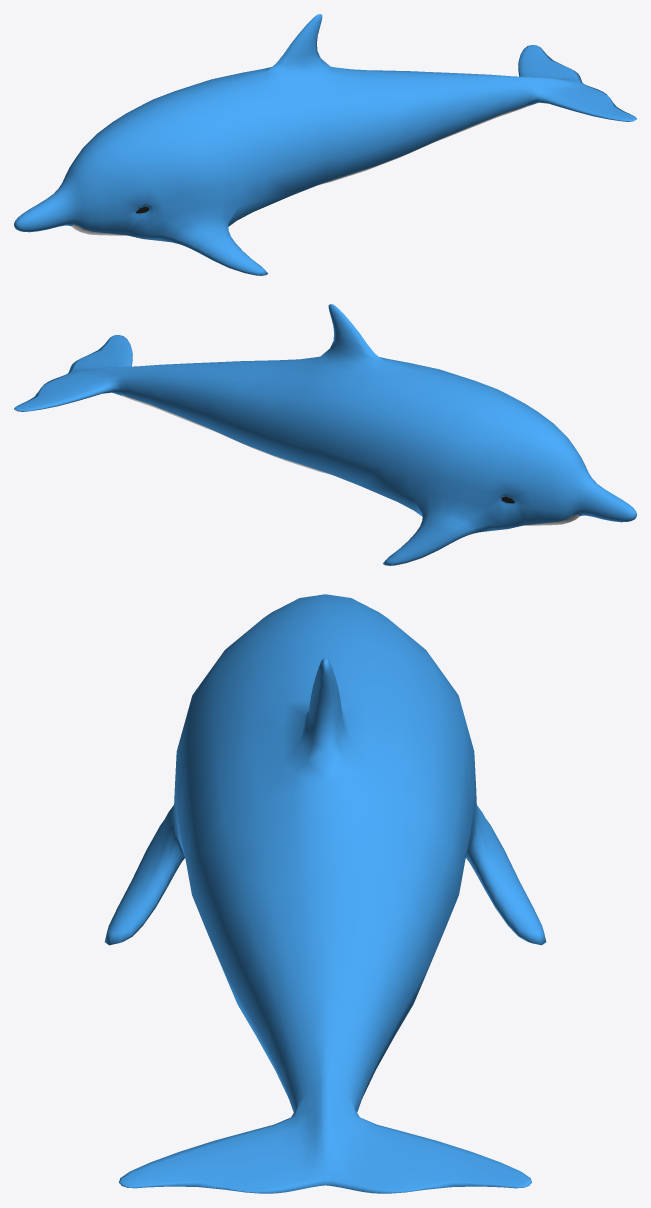
The model's file is Dolphin_002.glb.
The picture shows the model from 3 angles, top to bottom: view 1: azimuth 30°, elevation 25°; view 2: azimuth 150°, elevation 25°; view 3: azimuth 270°, elevation 25°; orthographic projection. The views are drawn at different scales.
Visible parts, largest first — view 1: Dolphin_002; view 2: Dolphin_002; view 3: Dolphin_002.
Boxes of the visible parts, x1,y1,x2,y2 form: Dolphin_002: (14, 14, 636, 275); Dolphin_002: (14, 304, 636, 565); Dolphin_002: (104, 594, 546, 1193).
Size of the model in its own units: 3.13 by 1.01 by 1.04.
1 material, 1 textured.
